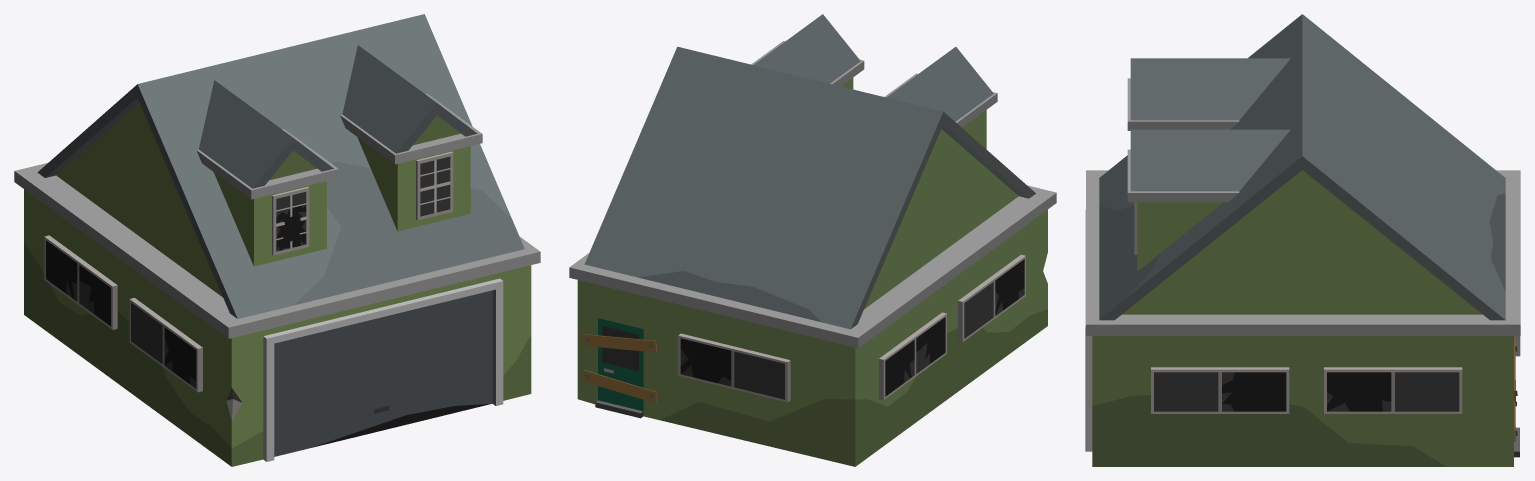
Rendered from SA_Bld_HouseGarage_Damaged_02.gltf.
The picture shows the model from 3 angles, left to right: view 1: azimuth 30°, elevation 25°; view 2: azimuth 150°, elevation 25°; view 3: azimuth 270°, elevation 25°; orthographic projection. The views are drawn at different scales.
Visible parts, largest first — view 1: SA_Bld_HouseGarage_Damaged_02; view 2: SA_Bld_HouseGarage_Damaged_02; view 3: SA_Bld_HouseGarage_Damaged_02.
Boxes of the visible parts, x1,y1,x2,y2 form: SA_Bld_HouseGarage_Damaged_02: (14, 14, 540, 466); SA_Bld_HouseGarage_Damaged_02: (569, 14, 1056, 466); SA_Bld_HouseGarage_Damaged_02: (1085, 14, 1520, 466).
Bounding box in the file's own units: 12.37 × 11.61 × 14.74.
Materials: 1 (1 with a texture image).
